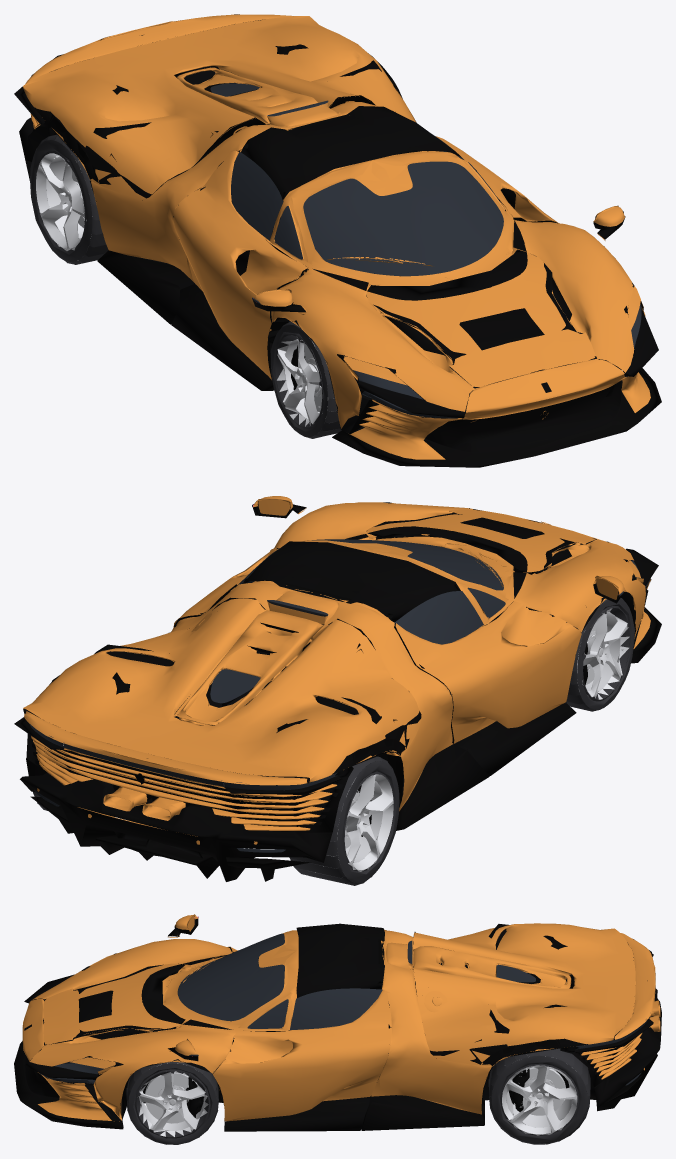
The picture shows the model from 3 angles, top to bottom: view 1: azimuth 30°, elevation 25°; view 2: azimuth 150°, elevation 25°; view 3: azimuth 270°, elevation 25°; orthographic projection. The views are drawn at different scales.
Visible parts, largest first — view 1: Badge_Geo_lodA_Ferrari_DaytonaSP3_2022BadgeA_Material_0.006, sp3_wheel_FL.001, sp3_wheel_RL.001; view 2: Badge_Geo_lodA_Ferrari_DaytonaSP3_2022BadgeA_Material_0.006, sp3_wheel_FL.001, sp3_wheel_RL.001; view 3: Badge_Geo_lodA_Ferrari_DaytonaSP3_2022BadgeA_Material_0.006, sp3_wheel_FR.001, sp3_wheel_RR.001.
Boxes of the visible parts, x1,y1,x2,y2 form: Badge_Geo_lodA_Ferrari_DaytonaSP3_2022BadgeA_Material_0.006: [14, 14, 661, 467]; sp3_wheel_FL.001: [30, 134, 108, 264]; sp3_wheel_RL.001: [270, 321, 341, 438]; Badge_Geo_lodA_Ferrari_DaytonaSP3_2022BadgeA_Material_0.006: [14, 496, 661, 881]; sp3_wheel_FL.001: [289, 756, 399, 885]; sp3_wheel_RL.001: [564, 598, 634, 711]; Badge_Geo_lodA_Ferrari_DaytonaSP3_2022BadgeA_Material_0.006: [14, 914, 661, 1131]; sp3_wheel_FR.001: [488, 1048, 590, 1144]; sp3_wheel_RR.001: [126, 1062, 218, 1144].
Size of the model in its own units: 2.38 by 1.14 by 4.69.
